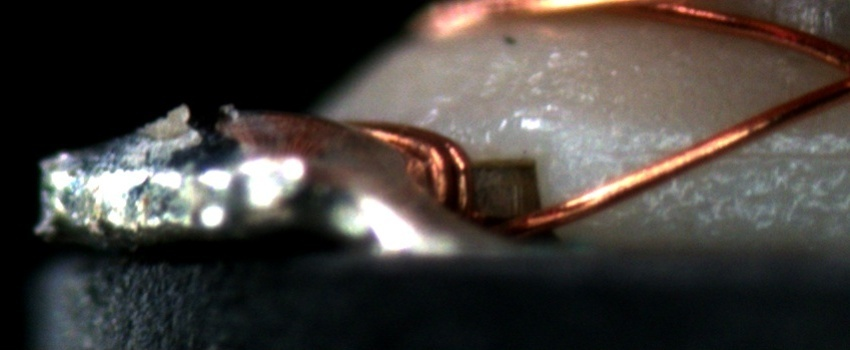CL: (827, 44, 850, 97)
DL: (590, 120, 849, 184)
TE: (348, 116, 477, 221)
